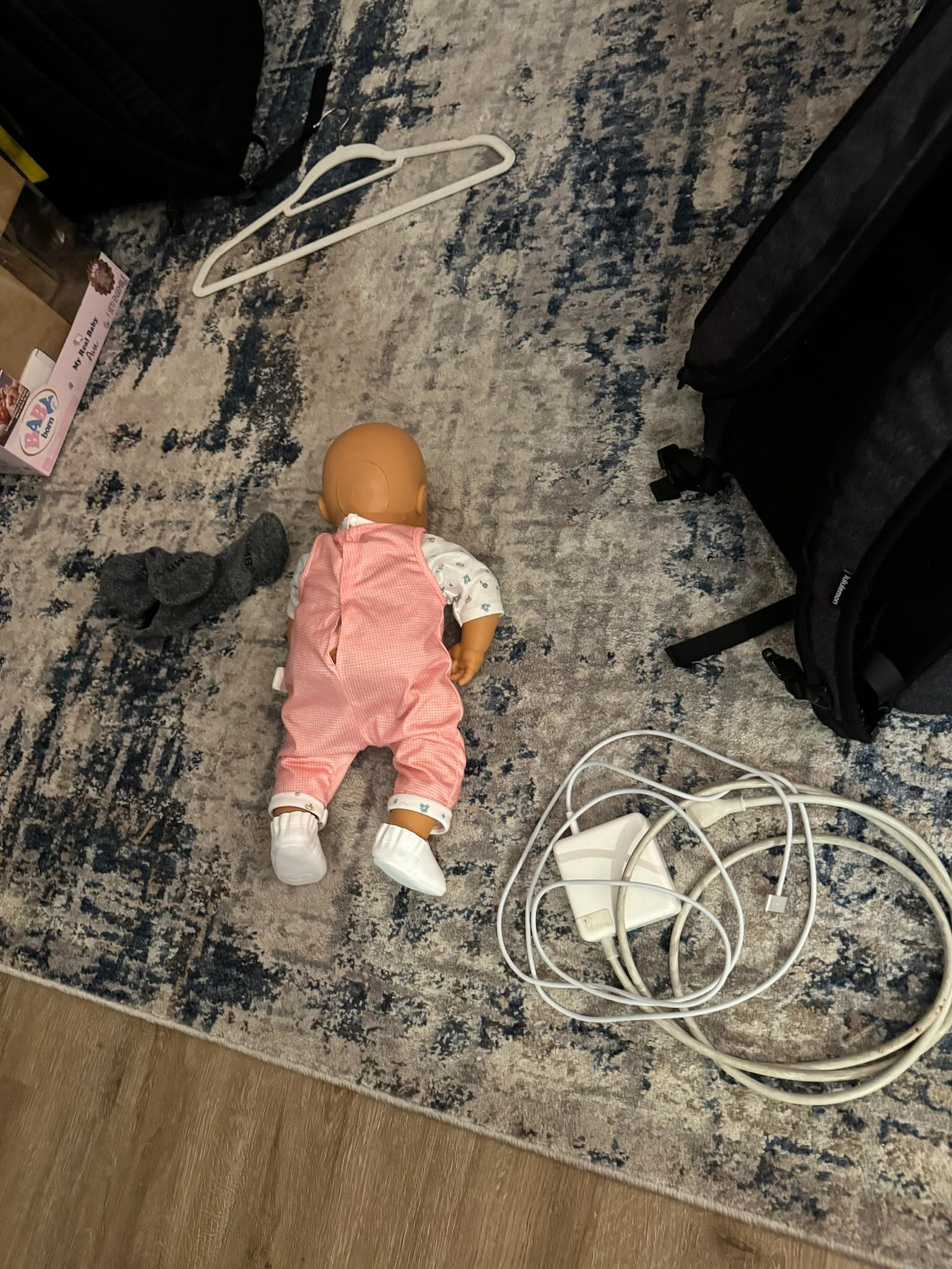baby: (258, 415, 502, 907)
